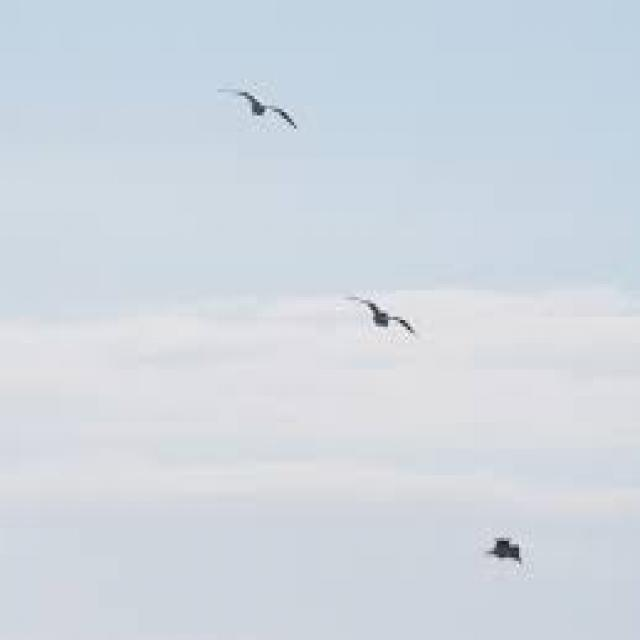bird: (202, 12, 344, 156), (304, 254, 454, 376), (441, 502, 555, 590)
